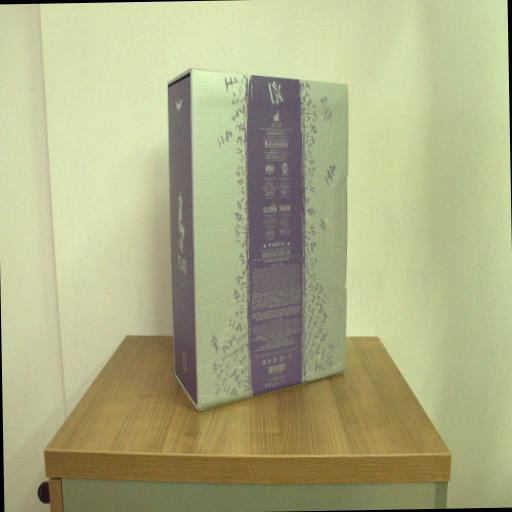Joker: (165, 64, 355, 415)
